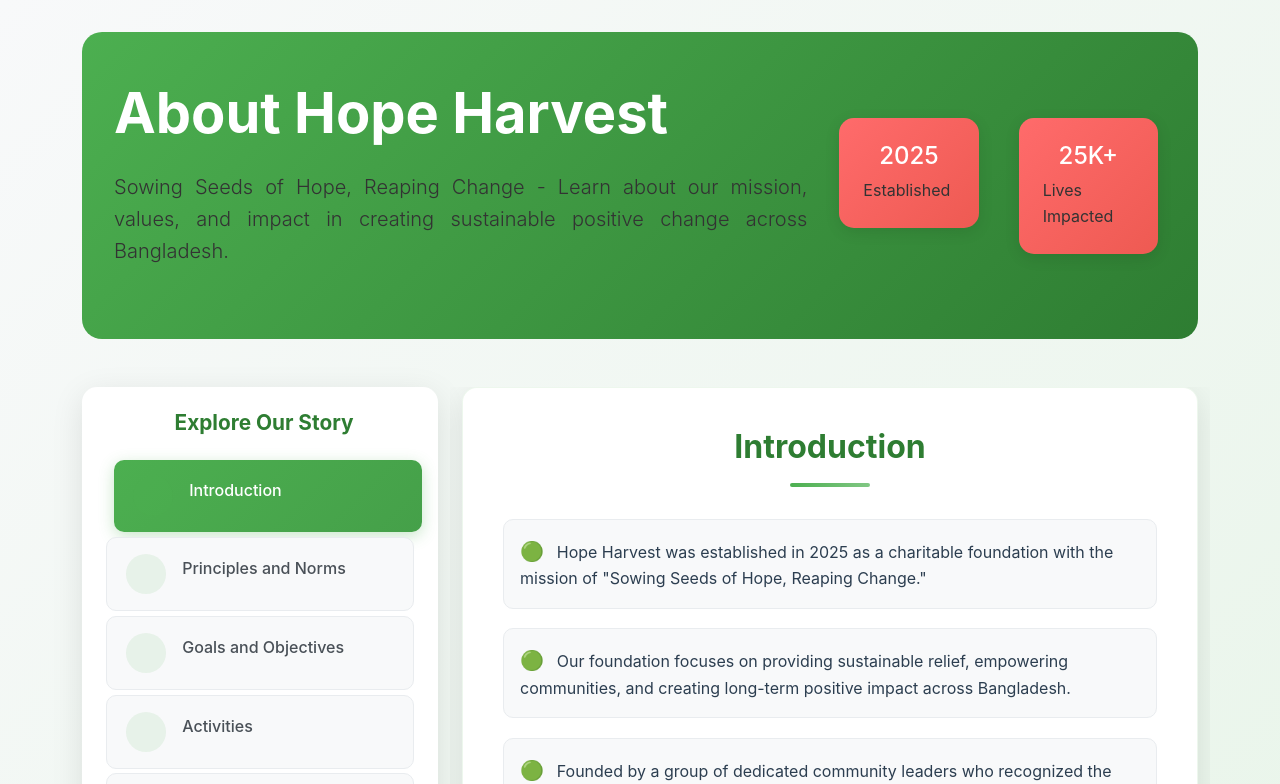
Test case: AboutPage Component › switches content when menu items are clicked
The width and height of the screenshot is (1280, 784).
Note: Find the first list (sidebar menu)
Click the list item "Principles and Norms". click: (260,574)
box: [106,537,414,611]
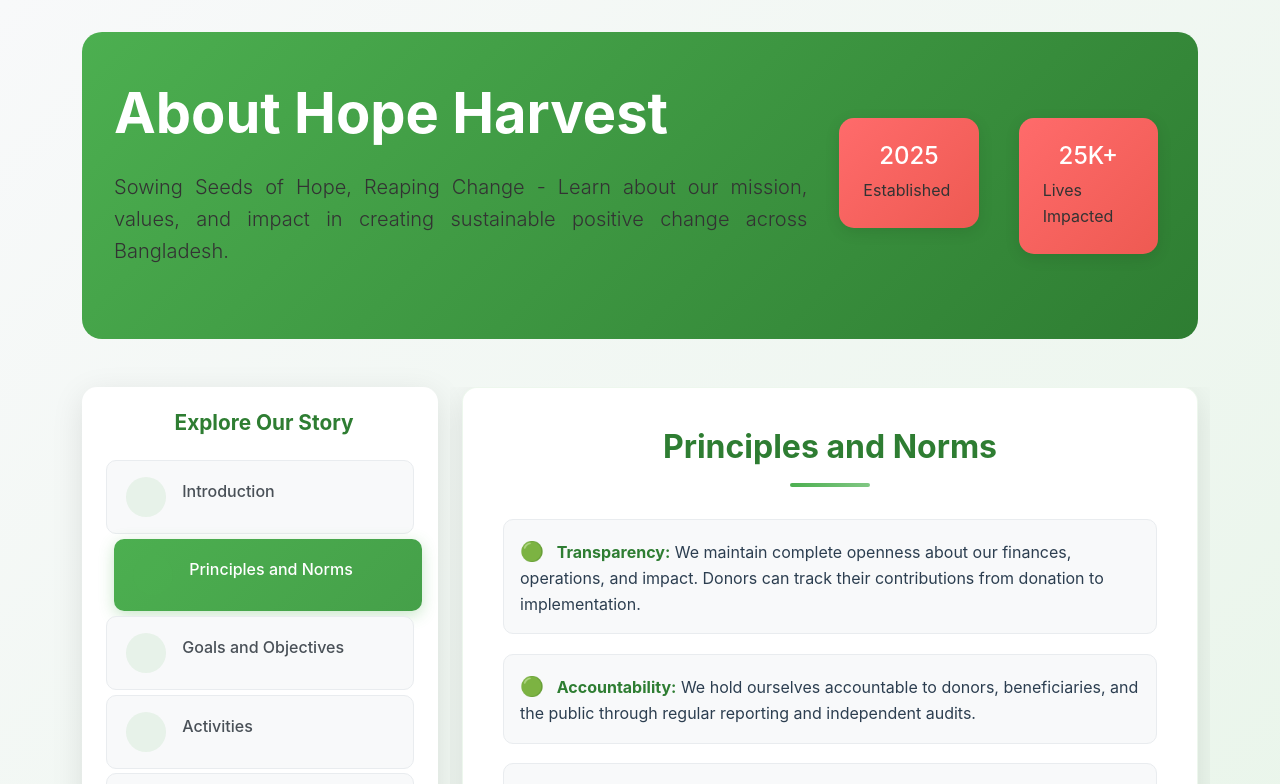
Check: the heading "Principles and Norms" is shown, box [663,427,997,466]
Check: the text "Transparency:" is shown, box [557,542,670,562]
